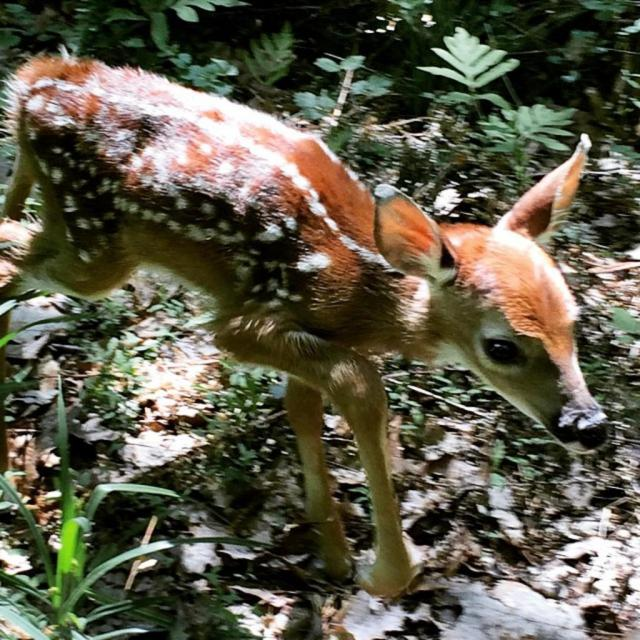Deer: (0, 58, 616, 592)
